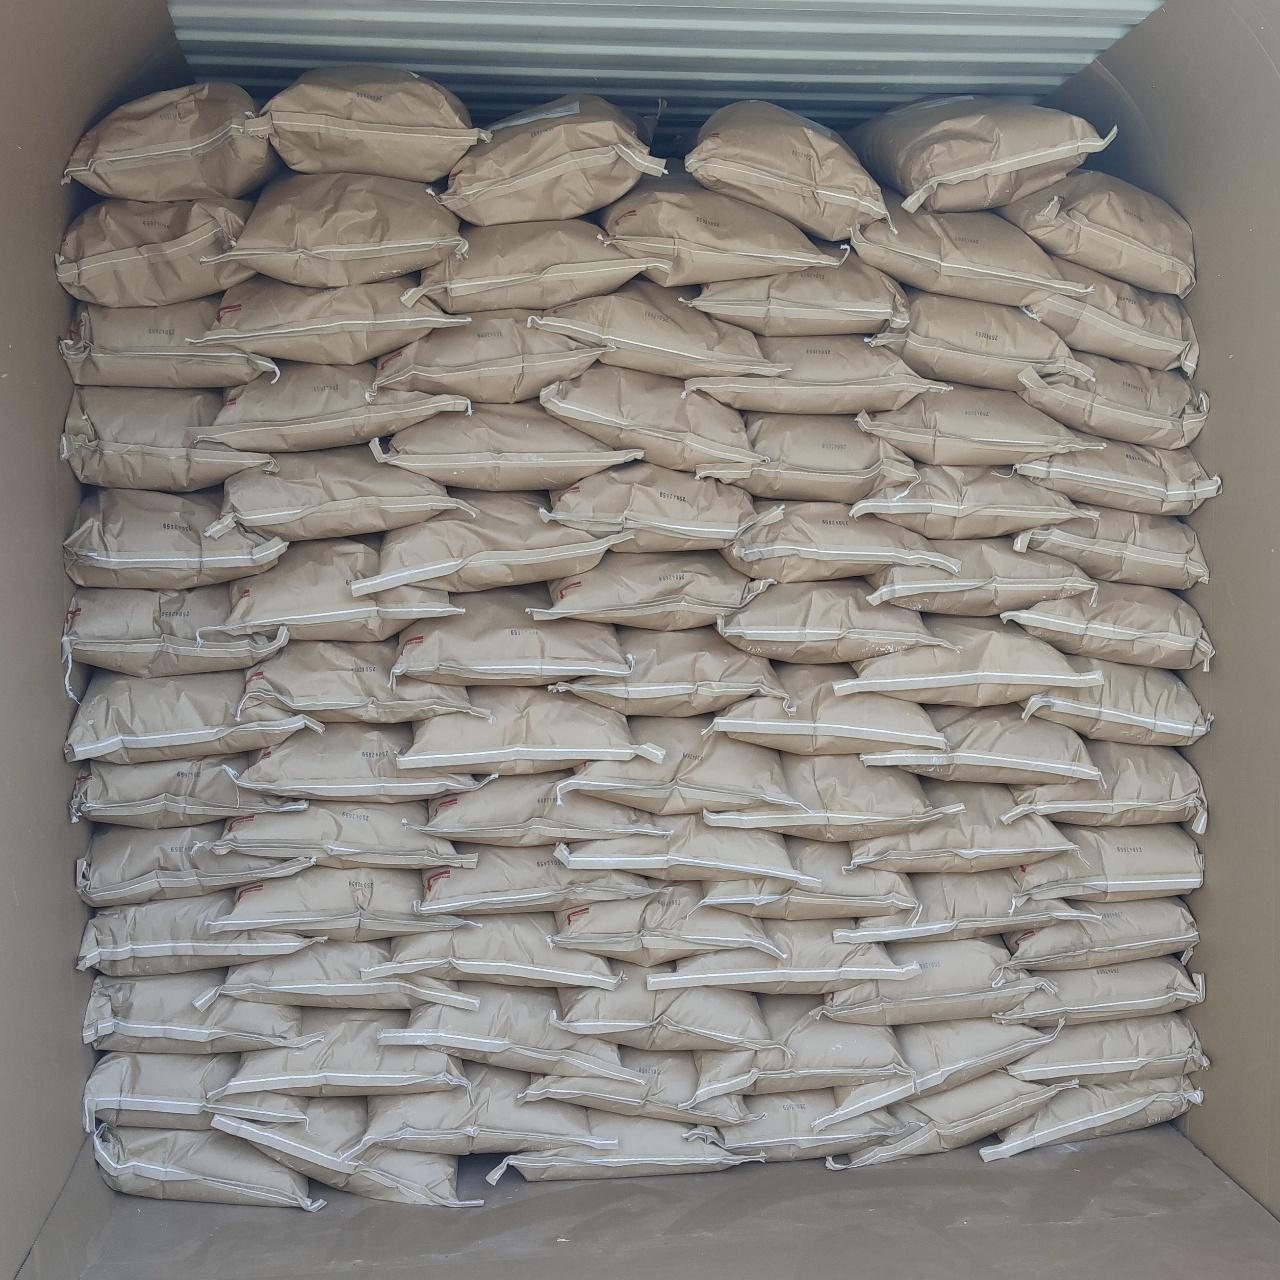sack: (598, 168, 840, 286), (850, 98, 1114, 206), (436, 98, 662, 222), (215, 173, 462, 286), (216, 1098, 474, 1206), (686, 102, 884, 238), (250, 68, 484, 181), (352, 492, 608, 592), (206, 445, 470, 540), (64, 82, 278, 198), (216, 540, 462, 638), (847, 192, 1064, 302), (196, 362, 467, 450), (998, 170, 1192, 292), (196, 274, 464, 362), (532, 280, 779, 374), (410, 220, 670, 309), (394, 586, 626, 686), (372, 402, 638, 488), (382, 983, 626, 1076), (847, 1070, 1078, 1167), (542, 365, 753, 470), (66, 488, 286, 588), (568, 716, 796, 813), (402, 688, 658, 774), (68, 672, 318, 758), (832, 1020, 1051, 1118), (360, 1062, 595, 1152), (869, 290, 1084, 388), (62, 388, 270, 490), (706, 663, 942, 753), (836, 617, 1082, 702), (79, 890, 324, 974), (57, 198, 254, 302), (376, 309, 606, 399), (554, 628, 787, 716), (706, 754, 946, 838), (847, 779, 1070, 870), (696, 996, 903, 1094), (222, 1010, 462, 1094), (90, 1124, 322, 1210), (685, 336, 944, 411), (60, 297, 278, 386), (1024, 260, 1198, 372), (64, 586, 284, 674), (241, 640, 486, 719), (488, 1110, 756, 1182), (719, 580, 949, 662), (651, 920, 915, 992), (556, 962, 776, 1048), (810, 938, 1032, 1022), (1002, 583, 1214, 670), (700, 414, 912, 502), (546, 462, 758, 550), (216, 866, 468, 940), (84, 971, 314, 1051), (195, 940, 476, 1006), (240, 724, 488, 798), (76, 824, 308, 903), (520, 1048, 753, 1126), (368, 914, 614, 988), (864, 704, 1098, 782), (552, 881, 772, 964), (686, 252, 904, 334), (836, 870, 1080, 942), (982, 1076, 1198, 1158), (726, 502, 949, 580), (536, 552, 765, 628), (856, 384, 1082, 462), (1002, 740, 1204, 826), (420, 844, 663, 915), (866, 538, 1094, 614), (1017, 354, 1206, 445), (700, 838, 915, 918), (416, 772, 654, 844), (558, 816, 808, 884), (216, 802, 468, 869), (72, 754, 302, 826), (852, 464, 1084, 535), (688, 1089, 912, 1160), (86, 1054, 304, 1126), (1022, 658, 1210, 742), (1014, 438, 1220, 515), (1014, 508, 1206, 588), (1017, 824, 1201, 903), (996, 956, 1204, 1026), (1005, 898, 1198, 972), (1008, 1014, 1206, 1082)
